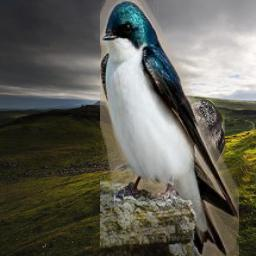Crow: (114, 99, 225, 208)
Swallow: (100, 0, 239, 256)
